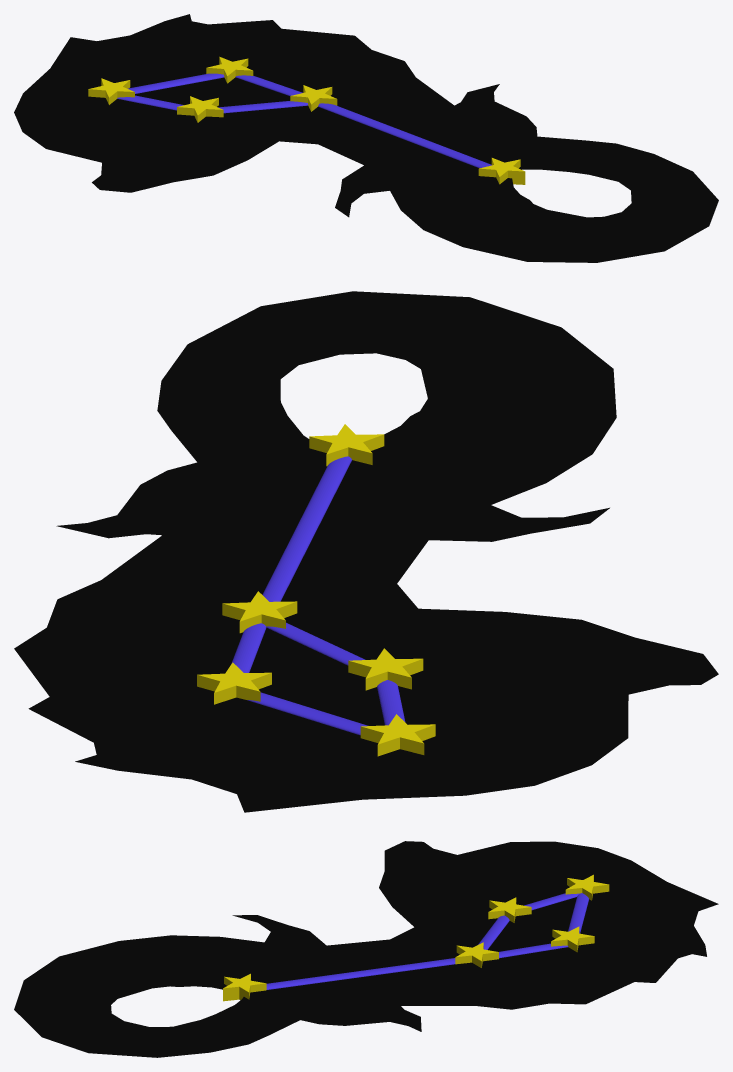
File: Iruka-za.glb
3 views of the same model, one above another, from view 1: azimuth 30°, elevation 25°; view 2: azimuth 150°, elevation 25°; view 3: azimuth 270°, elevation 25° (orthographic). The views are drawn at different scales.
Parts seen in each view (by area): view 1: 円.001, 円柱.004, 円.006, 円.004, 円.003, 円.010, 円.005, 円柱.009, 円柱.002, 円柱.003; view 2: 円.001, 円柱.004, 円.003, 円.010, 円.006, 円.004, 円.005, 円柱.009, 円柱.002, 円柱.003, 円柱.001; view 3: 円.001, 円柱.004, 円.006, 円.005, 円.004, 円.010, 円.003, 円柱.009, 円柱.002, 円柱.003.
Boxes of the visible parts, <box> form: 円.001: <box>14,14,718,262</box>; 円柱.004: <box>318,103,491,168</box>; 円.006: <box>478,158,525,184</box>; 円.004: <box>177,96,223,122</box>; 円.003: <box>88,78,134,104</box>; 円.010: <box>206,56,253,83</box>; 円.005: <box>290,85,337,111</box>; 円柱.009: <box>128,73,224,93</box>; 円柱.002: <box>218,101,308,113</box>; 円柱.003: <box>235,75,302,95</box>; 円.001: <box>14,291,718,812</box>; 円柱.004: <box>262,456,351,601</box>; 円.003: <box>360,714,435,756</box>; 円.010: <box>197,662,271,704</box>; 円.006: <box>309,424,384,466</box>; 円.004: <box>348,648,423,690</box>; 円.005: <box>222,591,297,633</box>; 円柱.009: <box>247,692,368,735</box>; 円柱.002: <box>266,622,365,665</box>; 円柱.003: <box>231,623,266,672</box>; 円柱.001: <box>377,680,405,725</box>; 円.001: <box>14,841,718,1057</box>; 円柱.004: <box>266,958,455,989</box>; 円.006: <box>223,973,266,1001</box>; 円.005: <box>455,942,498,967</box>; 円.004: <box>488,897,531,922</box>; 円.010: <box>551,926,594,952</box>; 円.003: <box>565,874,609,900</box>; 円柱.009: <box>568,893,588,933</box>; 円柱.002: <box>478,915,509,949</box>; 円柱.003: <box>499,943,568,958</box>.
Size of the model in its own units: 32.29 by 0.8959 by 44.37.
